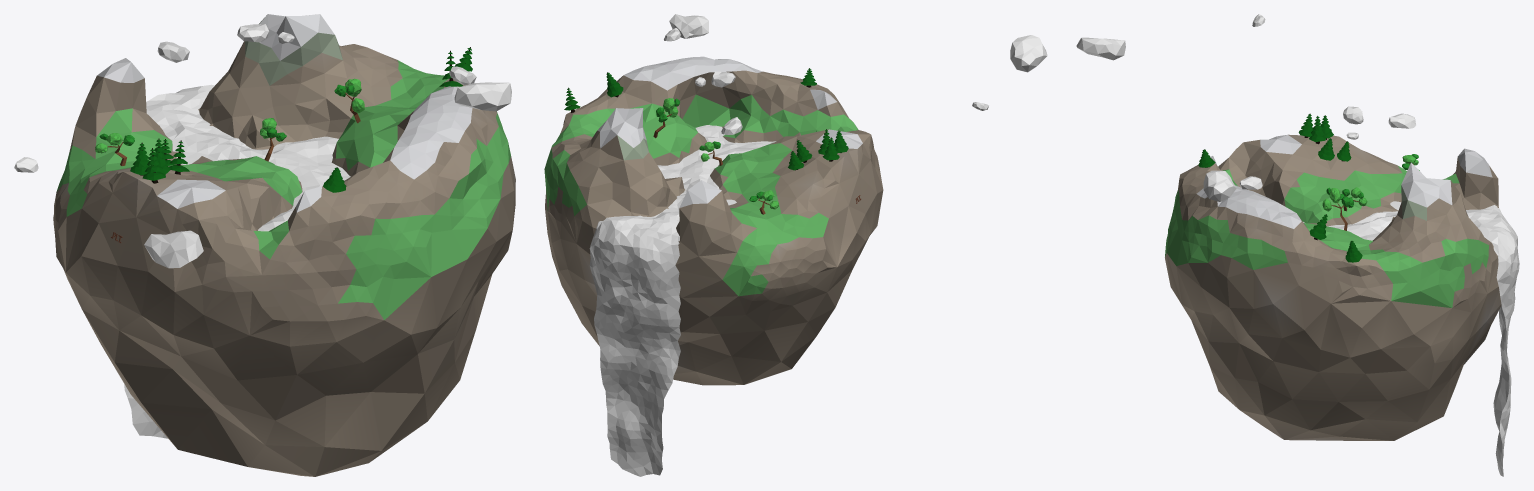
Rendered from floating_island.glb.
3 views of the same model, side by side, from view 1: azimuth 30°, elevation 25°; view 2: azimuth 150°, elevation 25°; view 3: azimuth 270°, elevation 25° (orthographic). The views are drawn at different scales.
Parts seen in each view (by area): view 1: Icosphere, Plane, Icosphere.006, Icosphere.004, Cube.002, Cube.001; view 2: Icosphere, Plane, Icosphere.006, Icosphere.004; view 3: Icosphere, Plane, Icosphere.006, Icosphere.004, Cube.002.
Part boxes in pixels (bbox=[...]): Icosphere: bbox=[53, 14, 515, 476]; Plane: bbox=[124, 84, 350, 438]; Icosphere.006: bbox=[144, 230, 203, 268]; Icosphere.004: bbox=[454, 82, 511, 111]; Cube.002: bbox=[334, 78, 364, 123]; Cube.001: bbox=[95, 133, 134, 165]; Icosphere: bbox=[544, 56, 883, 385]; Plane: bbox=[589, 125, 776, 476]; Icosphere.006: bbox=[1010, 35, 1047, 72]; Icosphere.004: bbox=[669, 14, 708, 38]; Icosphere: bbox=[1165, 134, 1501, 440]; Plane: bbox=[1303, 201, 1519, 476]; Icosphere.006: bbox=[1076, 37, 1125, 60]; Icosphere.004: bbox=[1203, 170, 1236, 201]; Cube.002: bbox=[1322, 187, 1353, 230].
Bounding box in the file's own units: 2507 × 2208 × 2472.
